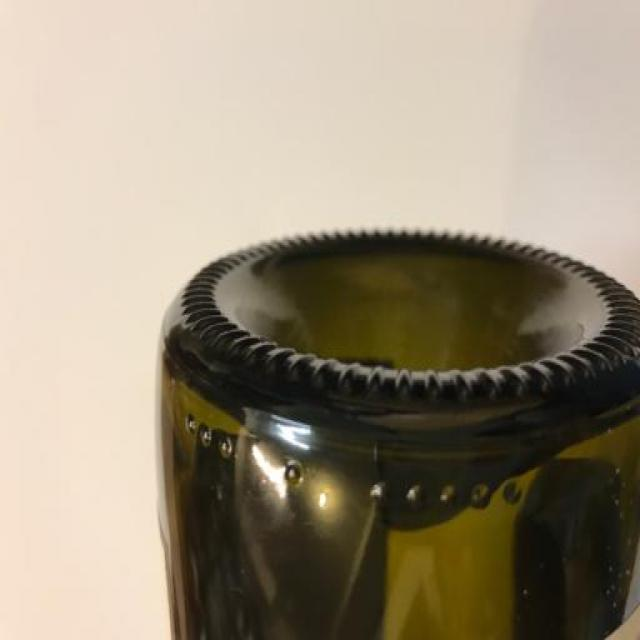glass: (135, 187, 640, 640)
